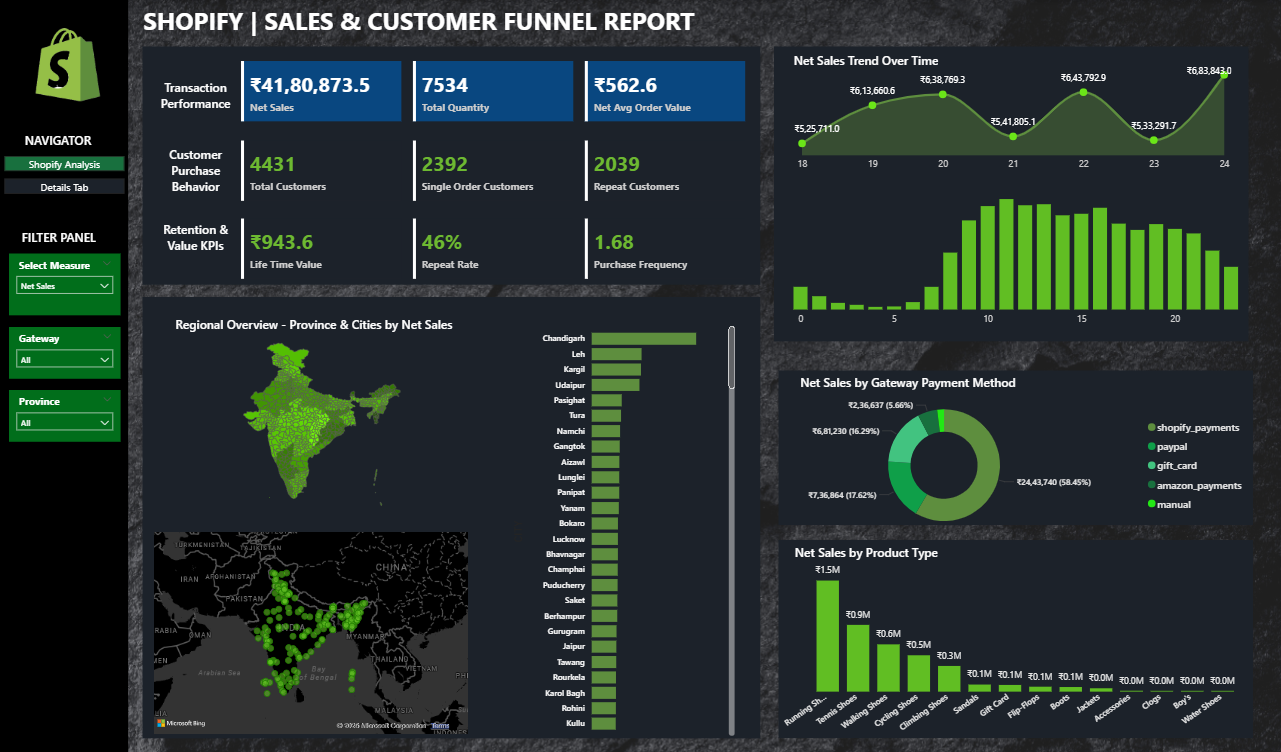

This screenshot's page, from the dashboard's own definition file:
{"tool":"powerbi","page":{"name":"Shopify Analysis","canvas":[1700,1000],"ordinal":0},"visuals":[{"type":"shape","box":[0,0,170.1,998.6],"z":0},{"type":"textbox","box":[185.6,0,790.9,61.9],"z":1000},{"type":"shape","box":[190,61.9,819.6,315.9],"z":2000},{"type":"cardVisual","fields":{"Data":["shopify_sales.Net Sales","shopify_sales.Total Quantity","shopify_sales.Net Avg Order Value"]},"box":[313.7,75.1,680.4,90.6],"z":3000},{"type":"cardVisual","fields":{"Data":["shopify_sales.Transaction Perf"]},"box":[190,57.4,141.4,128.1],"z":4000},{"type":"cardVisual","fields":{"Data":["shopify_sales.Total Customers","shopify_sales.Single Order Customers","shopify_sales.Repeat Customers"]},"box":[313.7,180,680.4,90.6],"z":5000},{"type":"cardVisual","fields":{"Data":["shopify_sales.Customer Purchase Behavior"]},"box":[190,156.9,141.4,128.1],"z":6000},{"type":"cardVisual","fields":{"Data":["shopify_sales.Life Time Value","shopify_sales.Repeat Rate","shopify_sales.Purchase Frequency"]},"box":[313.7,285,680.4,90.6],"z":7000},{"type":"cardVisual","fields":{"Data":["shopify_sales.Retention & Value KPIs"]},"box":[190,247.4,141.4,128.1],"z":8000},{"type":"shape","box":[190,393.2,819.6,585.4],"z":9000},{"type":"shapeMap","fields":{"Value":["shopify_sales.Total Quantity"],"Category":["shopify_sales.Billing Address Province"]},"box":[198.8,437.4,455.1,249.6],"z":10000},{"type":"slicer","fields":{"Values":["Select Measure.Select Measure"]},"box":[11.5,336.2,147.7,82.3],"z":11000},{"type":"map","fields":{"Category":["shopify_sales.Location"]},"box":[198.8,700.3,426.4,278.4],"z":12000},{"type":"clusteredBarChart","fields":{"Y":["shopify_sales.Total Quantity"],"Category":["shopify_sales.CITY"]},"box":[673.8,419.7,304.9,561.1],"z":13000},{"type":"cardVisual","fields":{"Data":["shopify_sales.Map Title"]},"box":[190,393.2,455.1,64.1],"z":14000},{"type":"shape","box":[1027.3,61.9,629.6,391],"z":15000},{"type":"areaChart","fields":{"Y":["shopify_sales.Total Quantity"],"Category":["shopify_sales.Invoice Date.Variation.Date Hierarchy.Day"]},"box":[1049.4,75.1,589.9,159.1],"z":16000},{"type":"columnChart","fields":{"Y":["shopify_sales.Total Quantity"],"Category":["shopify_sales.Hour"]},"box":[1047.2,234.2,600.9,205.5],"z":17000},{"type":"cardVisual","fields":{"Data":["shopify_sales.Trend Title"]},"box":[921.1,43.8,455.6,63.7],"z":18000},{"type":"shape","box":[1031.7,490.4,629.6,205],"z":19000},{"type":"donutChart","fields":{"Y":["shopify_sales.Total Quantity"],"Category":["shopify_sales.Gateway"]},"box":[976.5,516.9,684.8,198.8],"z":20000},{"type":"cardVisual","fields":{"Data":["shopify_sales.Gateway Title"]},"box":[977.8,468.9,455.6,65.6],"z":21000},{"type":"shape","box":[1031.7,715.8,629.6,262.9],"z":22000},{"type":"columnChart","fields":{"Y":["shopify_sales.Total Quantity"],"Category":["shopify_sales.Product Type"]},"box":[1031.7,729,625.2,251.8],"z":23000},{"type":"cardVisual","fields":{"Data":["shopify_sales.Product Title"]},"box":[923.4,695.9,452.9,64.1],"z":24000},{"type":"slicer","fields":{"Values":["shopify_sales.Gateway"]},"box":[11,433,148,68.5],"z":25000},{"type":"slicer","fields":{"Values":["shopify_sales.Billing Address Province"]},"box":[11,516.9,148,68.5],"z":26000},{"type":"pageNavigator","box":[6.6,207.7,159.1,50.8],"z":27000},{"type":"textbox","box":[27.9,169.1,115.4,37.8],"z":28000},{"type":"textbox","box":[24.3,298.2,128.1,37.6],"z":29000},{"type":"image","box":[30,32.5,120,107.5],"z":30000}]}

Visuals, with their boxes on the page's 1700x1000 design canvas (x1, y1, x2, y2). These are canvas units, not pixel positions in the 1281x752 screenshot, which may show the page scaled, cropped or inside an application window:
shape: (left=0, top=0, right=170, bottom=999)
textbox: (left=186, top=0, right=976, bottom=62)
shape: (left=190, top=62, right=1010, bottom=378)
cardVisual - shopify_sales.Net Sales x shopify_sales.Total Quantity: (left=314, top=75, right=994, bottom=166)
cardVisual - shopify_sales.Transaction Perf: (left=190, top=57, right=331, bottom=186)
cardVisual - shopify_sales.Total Customers x shopify_sales.Single Order Customers: (left=314, top=180, right=994, bottom=271)
cardVisual - shopify_sales.Customer Purchase Behavior: (left=190, top=157, right=331, bottom=285)
cardVisual - shopify_sales.Life Time Value x shopify_sales.Repeat Rate: (left=314, top=285, right=994, bottom=376)
cardVisual - shopify_sales.Retention & Value KPIs: (left=190, top=247, right=331, bottom=376)
shape: (left=190, top=393, right=1010, bottom=979)
shapeMap - shopify_sales.Total Quantity x shopify_sales.Billing Address Province: (left=199, top=437, right=654, bottom=687)
slicer - Select Measure.Select Measure: (left=12, top=336, right=159, bottom=418)
map - shopify_sales.Location: (left=199, top=700, right=625, bottom=979)
clusteredBarChart - shopify_sales.Total Quantity x shopify_sales.CITY: (left=674, top=420, right=979, bottom=981)
cardVisual - shopify_sales.Map Title: (left=190, top=393, right=645, bottom=457)
shape: (left=1027, top=62, right=1657, bottom=453)
areaChart - shopify_sales.Total Quantity x shopify_sales.Invoice Date.Variation.Date Hierarchy.Day: (left=1049, top=75, right=1639, bottom=234)
columnChart - shopify_sales.Total Quantity x shopify_sales.Hour: (left=1047, top=234, right=1648, bottom=440)
cardVisual - shopify_sales.Trend Title: (left=921, top=44, right=1377, bottom=108)
shape: (left=1032, top=490, right=1661, bottom=695)
donutChart - shopify_sales.Total Quantity x shopify_sales.Gateway: (left=976, top=517, right=1661, bottom=716)
cardVisual - shopify_sales.Gateway Title: (left=978, top=469, right=1433, bottom=534)
shape: (left=1032, top=716, right=1661, bottom=979)
columnChart - shopify_sales.Total Quantity x shopify_sales.Product Type: (left=1032, top=729, right=1657, bottom=981)
cardVisual - shopify_sales.Product Title: (left=923, top=696, right=1376, bottom=760)
slicer - shopify_sales.Gateway: (left=11, top=433, right=159, bottom=502)
slicer - shopify_sales.Billing Address Province: (left=11, top=517, right=159, bottom=585)
pageNavigator: (left=7, top=208, right=166, bottom=258)
textbox: (left=28, top=169, right=143, bottom=207)
textbox: (left=24, top=298, right=152, bottom=336)
image: (left=30, top=32, right=150, bottom=140)
